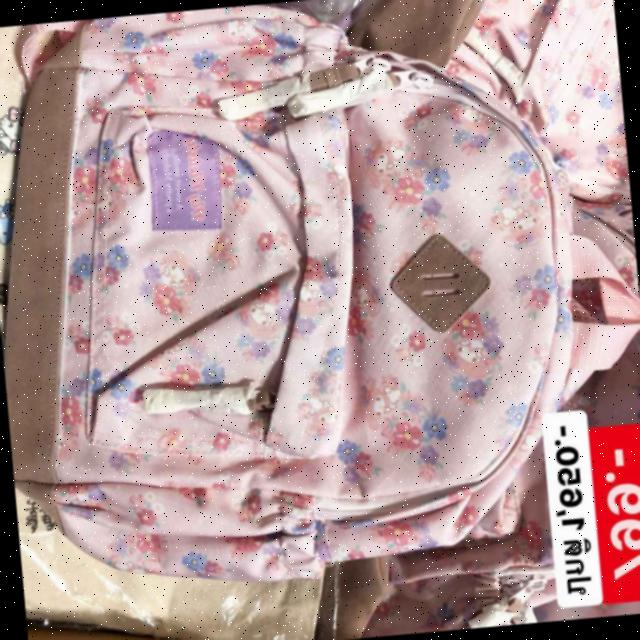handbag: (0, 0, 603, 601)
